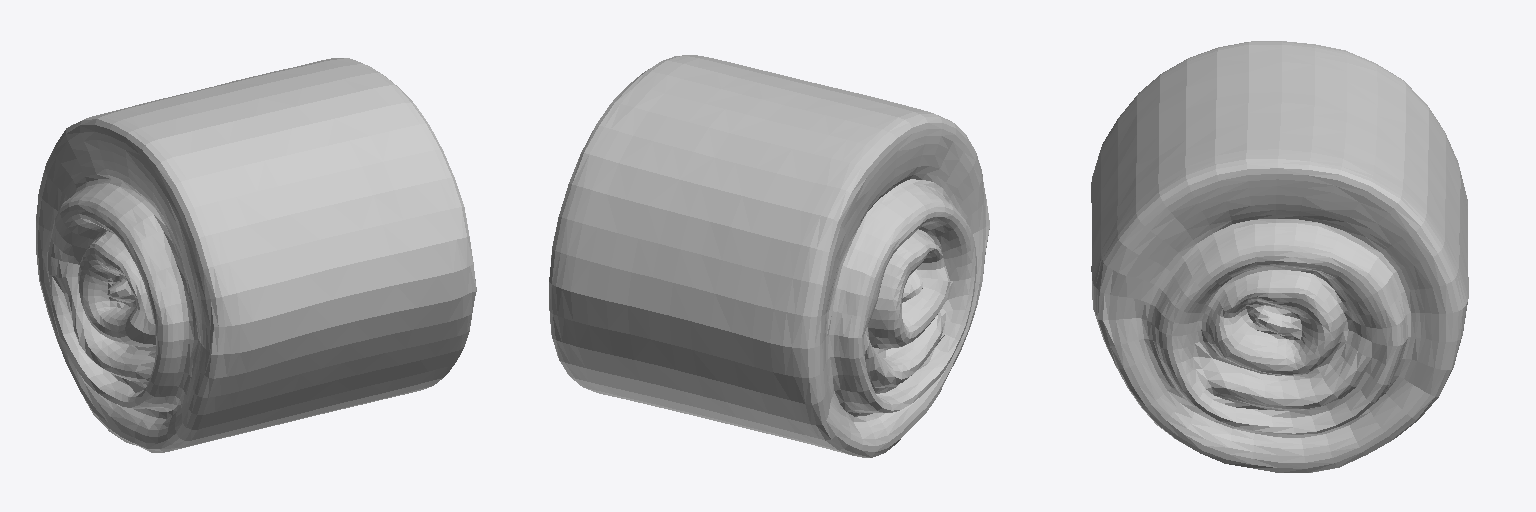
File: skin.obj
3 views of the same model, side by side, from view 1: azimuth 30°, elevation 25°; view 2: azimuth 150°, elevation 25°; view 3: azimuth 270°, elevation 25° (orthographic).
Visible parts, largest first — view 1: mesh; view 2: mesh; view 3: mesh.
Part boxes in pixels (bbox=[...]): mesh: bbox=[36, 58, 476, 452]; mesh: bbox=[549, 55, 989, 457]; mesh: bbox=[1091, 41, 1468, 472].
Bounding box in the file's own units: 0.9407 × 0.9089 × 0.9974.